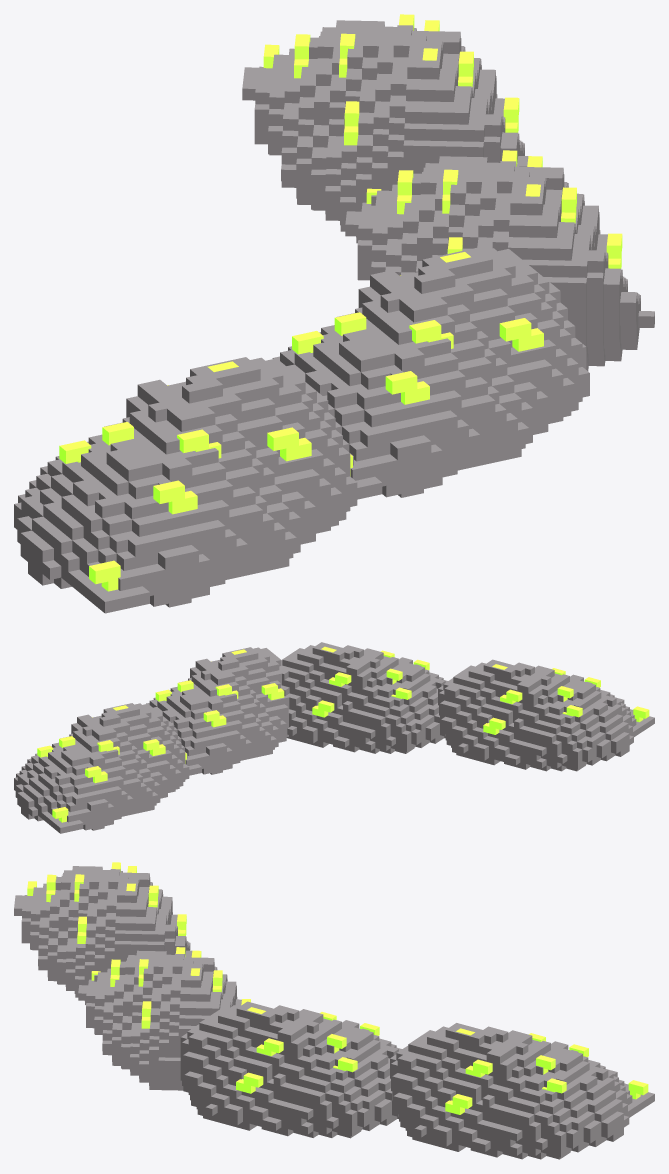
File: engel8.fbx
3 renders of one model, top to bottom at view 1: azimuth 30°, elevation 25°; view 2: azimuth 150°, elevation 25°; view 3: azimuth 270°, elevation 25°, orthographic. The views are drawn at different scales.
Visible parts, largest first — view 1: rock.030, rock.020, rock.010, rock, rock.025, rock.035, rock.034, rock.024; view 2: rock.030, rock.010, rock.020, rock, rock.005; view 3: rock.010, rock, rock.030, rock.020.
Part boxes in pixels (x1,y1,x2,y2): rock.030: [14, 357, 357, 613]; rock.020: [272, 247, 589, 499]; rock.010: [242, 20, 528, 243]; rock: [345, 156, 654, 370]; rock.025: [499, 318, 543, 351]; rock.035: [267, 427, 311, 461]; rock.034: [153, 480, 197, 514]; rock.024: [385, 371, 429, 404]; rock.030: [438, 659, 654, 771]; rock.010: [14, 703, 189, 833]; rock.020: [279, 642, 447, 753]; rock: [146, 647, 296, 775]; rock.005: [261, 683, 284, 700]; rock.010: [390, 1023, 654, 1159]; rock: [180, 1001, 401, 1138]; rock.030: [14, 866, 192, 1004]; rock.020: [78, 950, 241, 1090].
Bounding box in the file's own units: 1069 × 205 × 1157.
